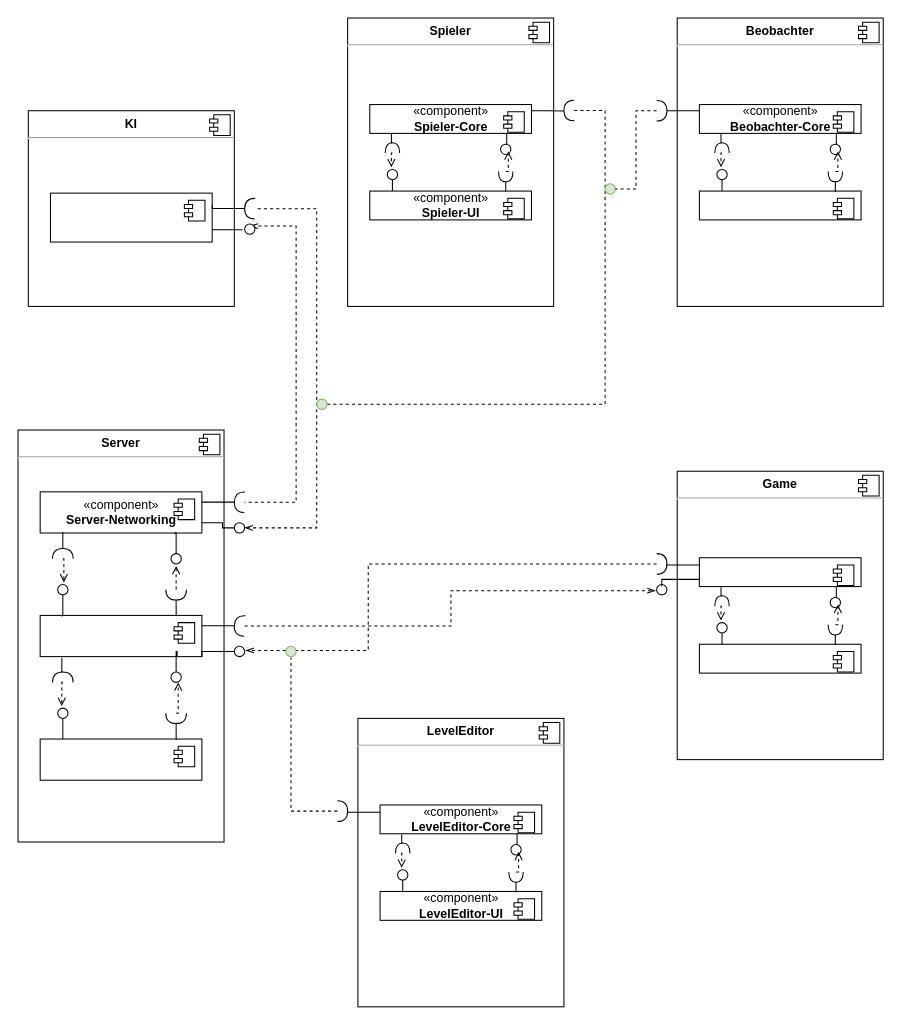
This 901x1025 diagram has some shape labels left out. Here are the shapes that lost their labels. From the top down, the centre of each, then its label:
At point 130,217: "«component» KI-Core".
At point 779,205: "«component» Beobachter-UI".
At point 779,572: "«component» Game-Core".
At point 120,635: "«component» Server-Core".
At point 779,658: "«component» Game-UI".
At point 120,759: "«component» Server-UI".
